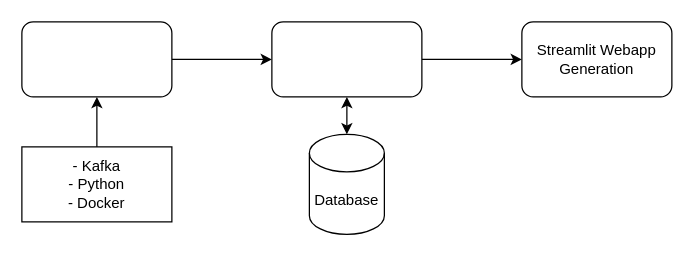
Some shapes in this 694 by 256 pixel diagram are drawn without their labels. Each missing label, with the centre of its shape:
Store in PostgreSQL Database: point (346, 59)
Synthetic Data Generation: point (96, 59)
